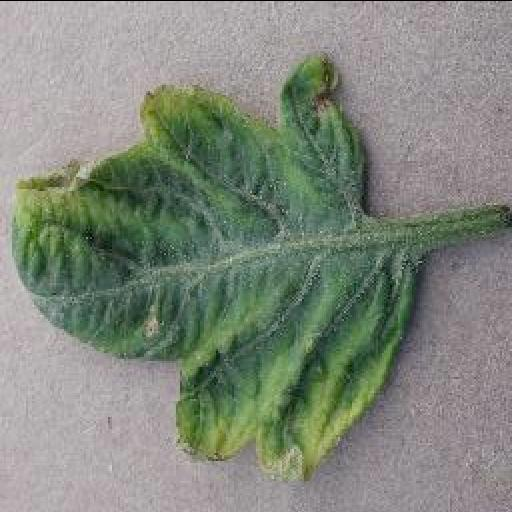disease_tomato: (10, 54, 420, 482)
